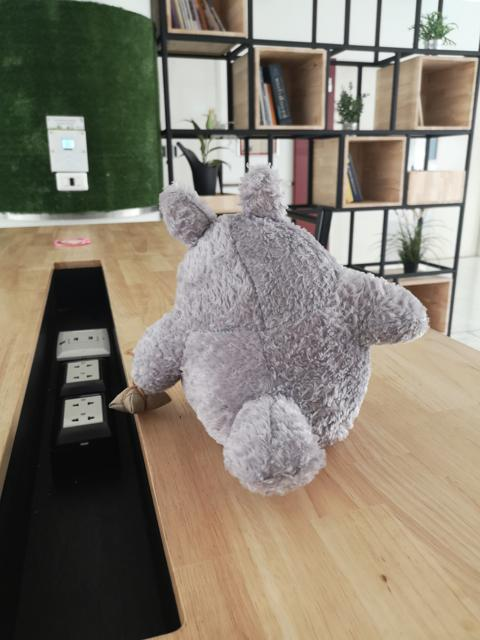totoro: (104, 156, 435, 504)
